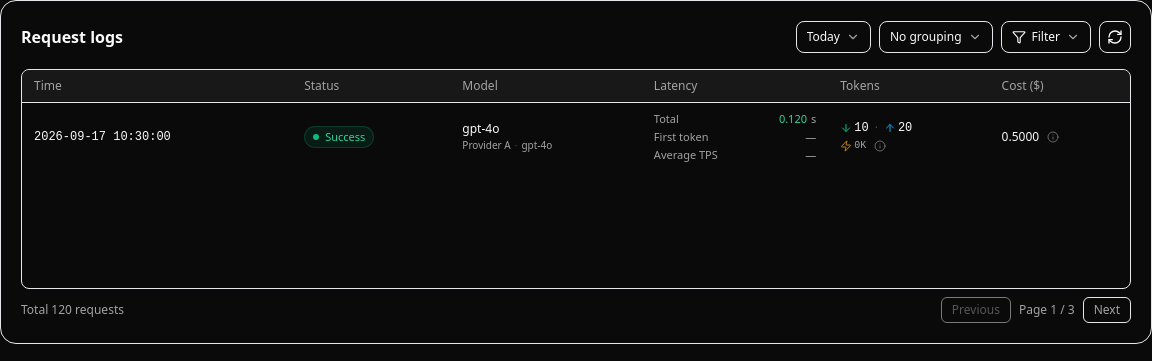
UsageLogsPanel › 切换分组时回到第 1 页
This screenshot has width=1152, height=361.
Expected: the text "Page 1 / 3" is shown, x1=1019 y1=302 x2=1075 y2=318
Click the button "Next".
click(1107, 310)  # box x1=1083 y1=297 x2=1131 y2=323
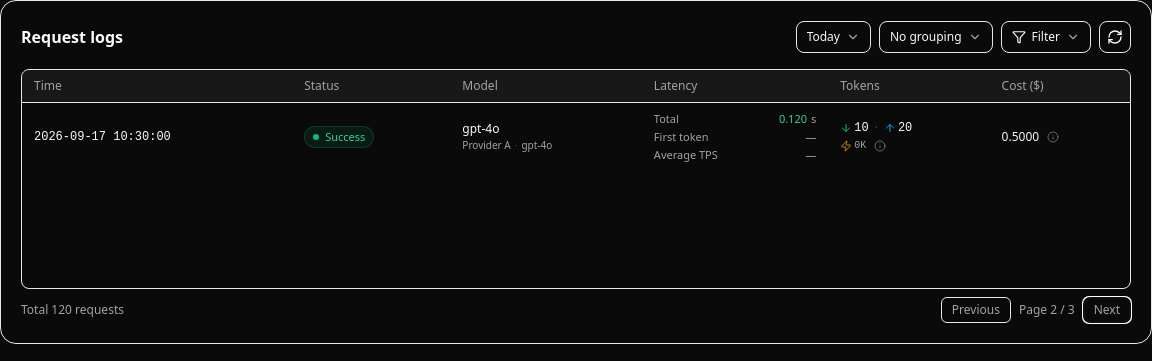
Now the text "Page 2 / 3" is shown, box x1=1019 y1=302 x2=1075 y2=318
Click the button with test id "ai-gateway-logs-group-trigger".
click(936, 37)  # box x1=879 y1=21 x2=992 y2=53
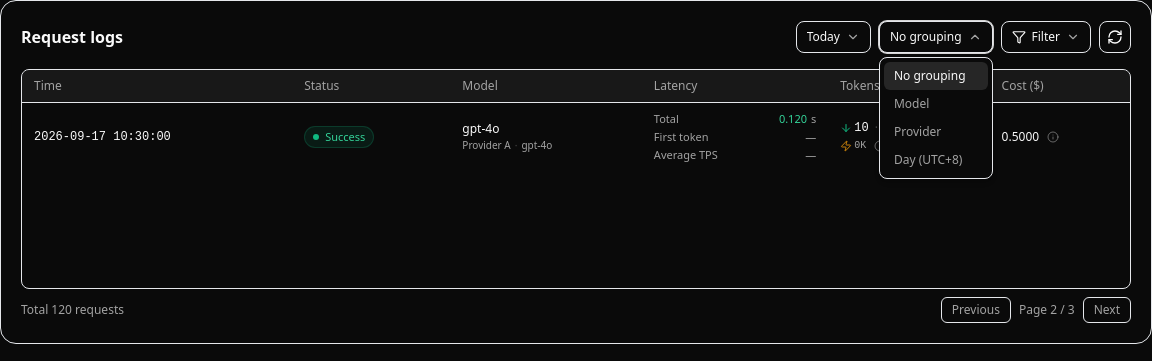
Click the option "Model".
click(936, 104)  # box x1=884 y1=90 x2=988 y2=118
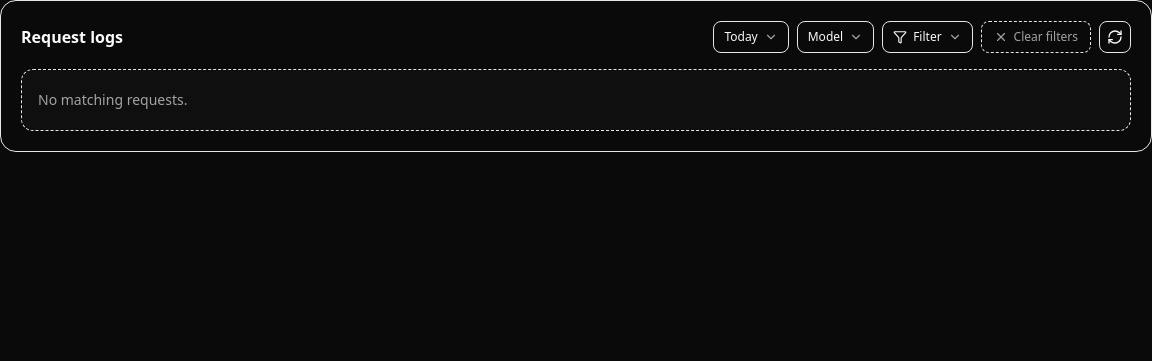
Now the button with test id "ai-gateway-logs-group-trigger" reads "Model", box x1=797 y1=21 x2=874 y2=53
